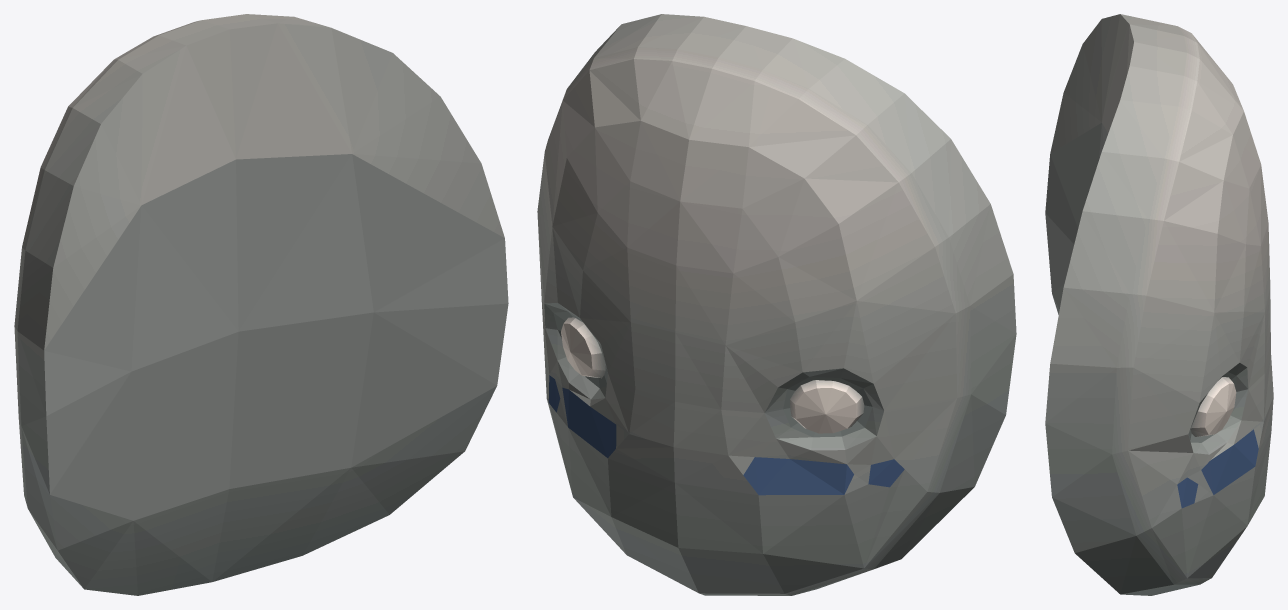
File: CharSkyKid_Mask_AP03A.glb
3 renders of one model, left to right at view 1: azimuth 30°, elevation 25°; view 2: azimuth 150°, elevation 25°; view 3: azimuth 270°, elevation 25°, orthographic. The views are drawn at different scales.
Visible parts, largest first — view 1: CharSkyKid_Mask_AP03A; view 2: CharSkyKid_Mask_AP03A; view 3: CharSkyKid_Mask_AP03A.
Part boxes in pixels (bbox=[...]): CharSkyKid_Mask_AP03A: bbox=[14, 14, 508, 595]; CharSkyKid_Mask_AP03A: bbox=[537, 14, 1016, 595]; CharSkyKid_Mask_AP03A: bbox=[1045, 14, 1273, 595].
Size of the model in its own units: 2.11 by 2.46 by 0.9655.
1 material, 1 textured.
